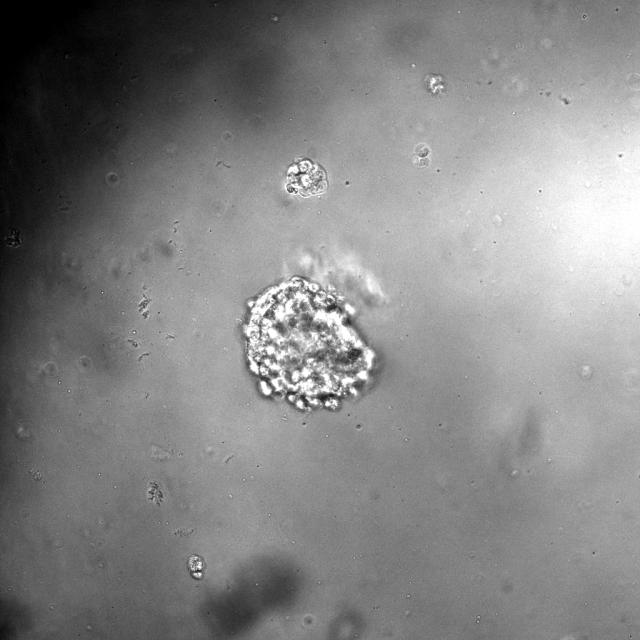organoid: (243, 276, 376, 411), (286, 158, 327, 197), (422, 73, 447, 96), (411, 143, 431, 168), (187, 554, 204, 579)
